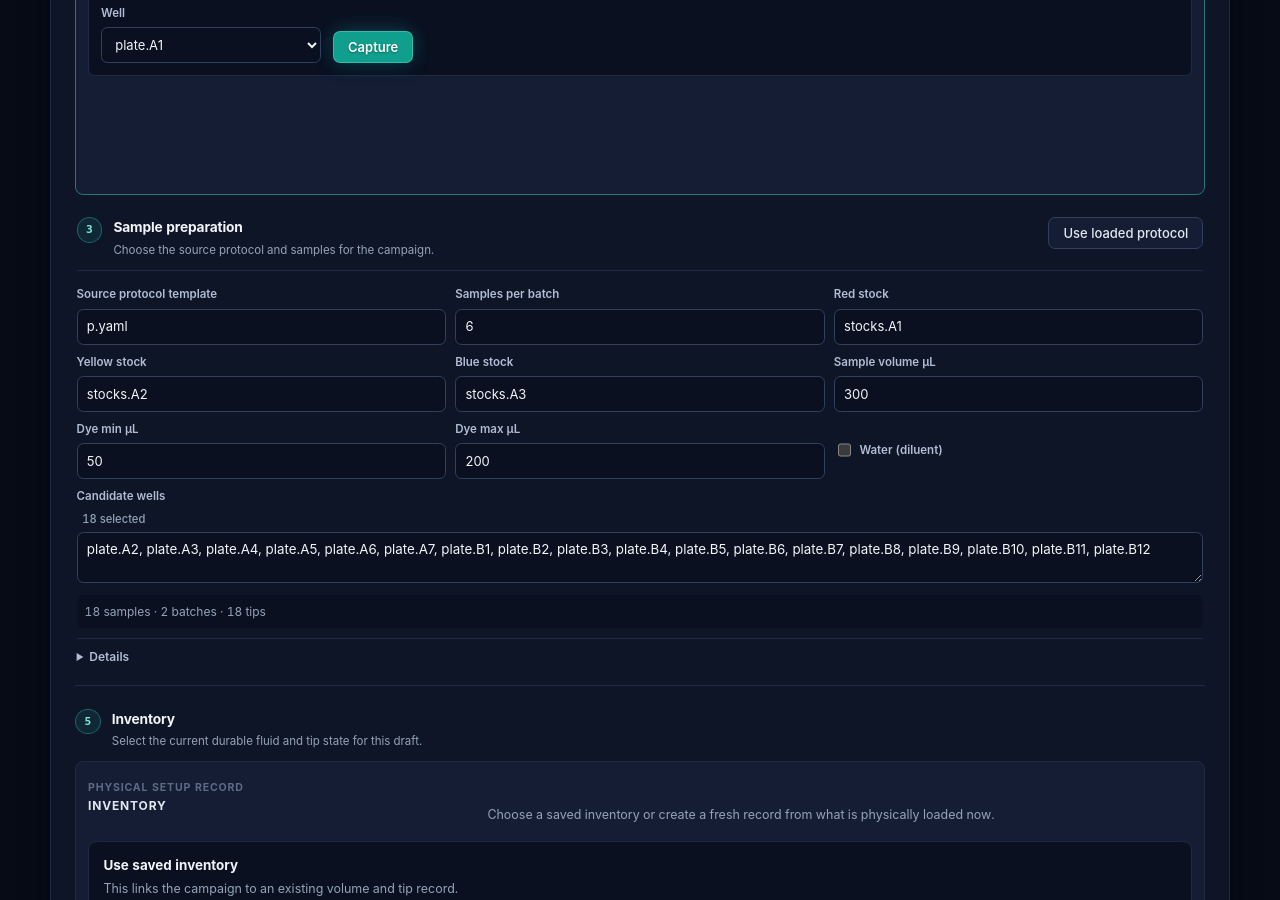
Scenario: reveals the water diluent fields only once enabled, with a stocks.A4 default
The width and height of the screenshot is (1280, 900).
(page scrolled)
Expected: the field labelled "Water source" is not shown
Click the checkbox labelled "Water (diluent)" at (844, 450), box x1=838 y1=432 x2=851 y2=468
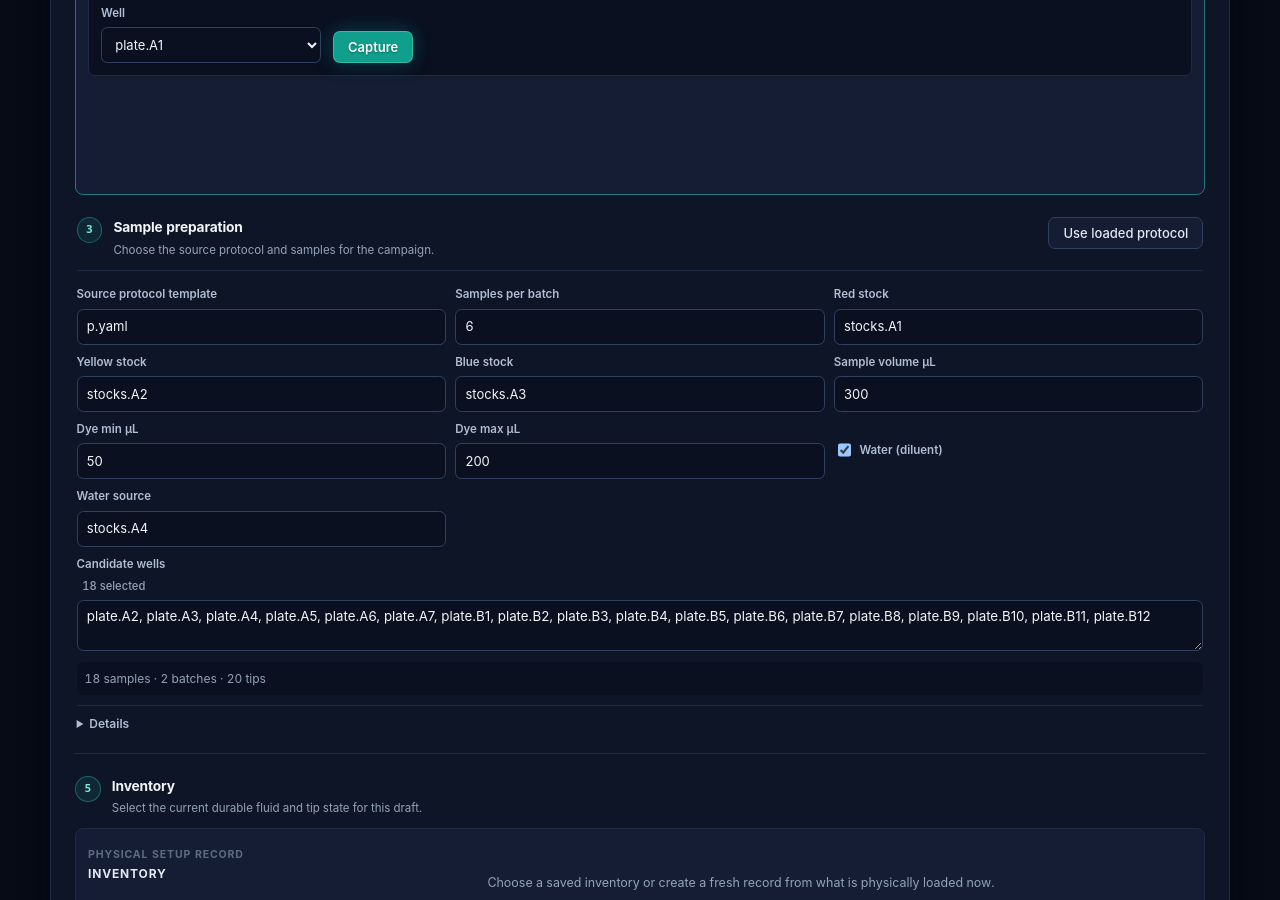
Expected: the number field named "Dye minimum microliters" holds "50", x1=77 y1=443 x2=446 y2=479
Expected: the field labelled "Water source" holds "stocks.A4"
Replace the text in the field labelled "Water source" with "stocks.B1" at (261, 529), box x1=77 y1=511 x2=446 y2=547
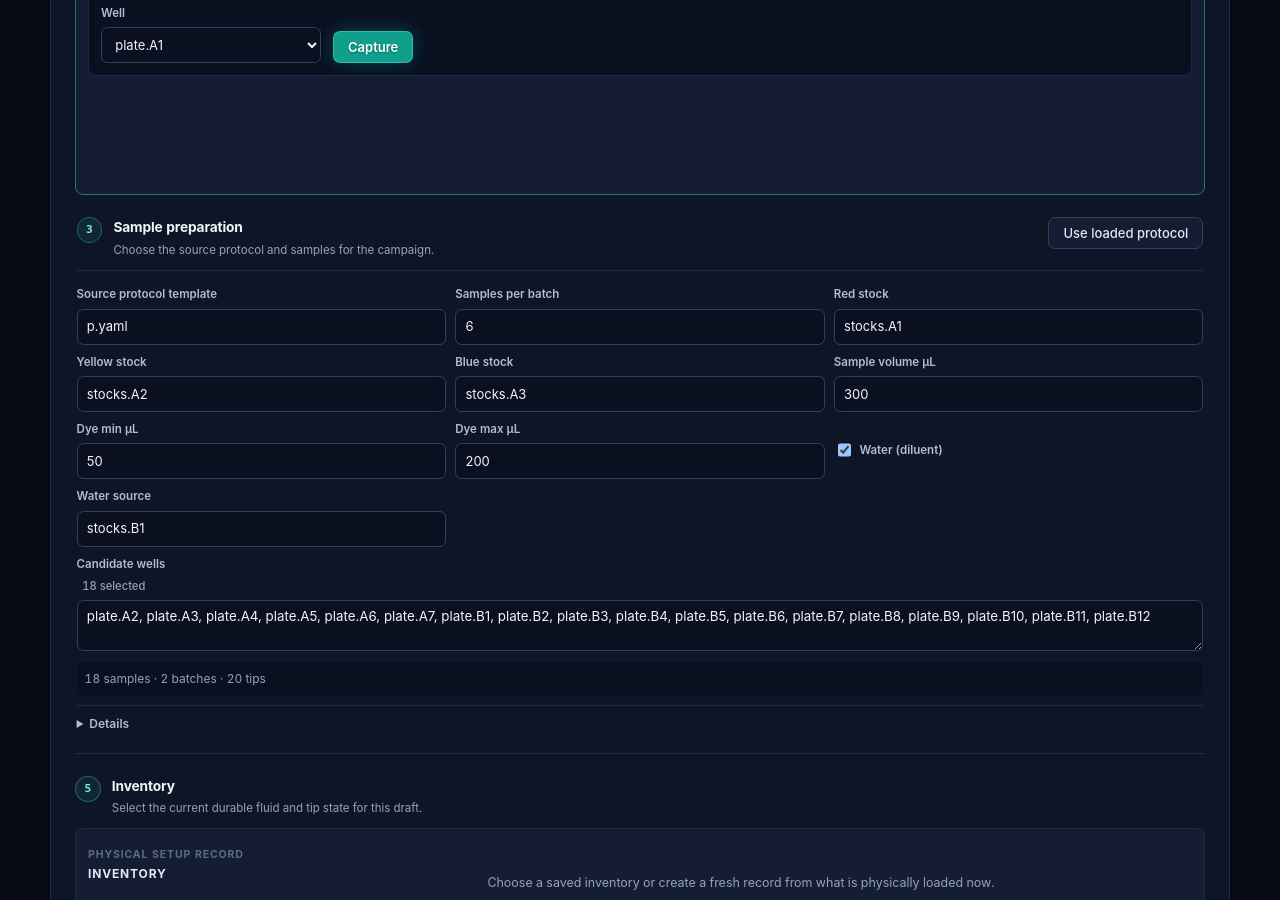
Click the checkbox labelled "Water (diluent)" at (844, 450), box x1=838 y1=432 x2=851 y2=468
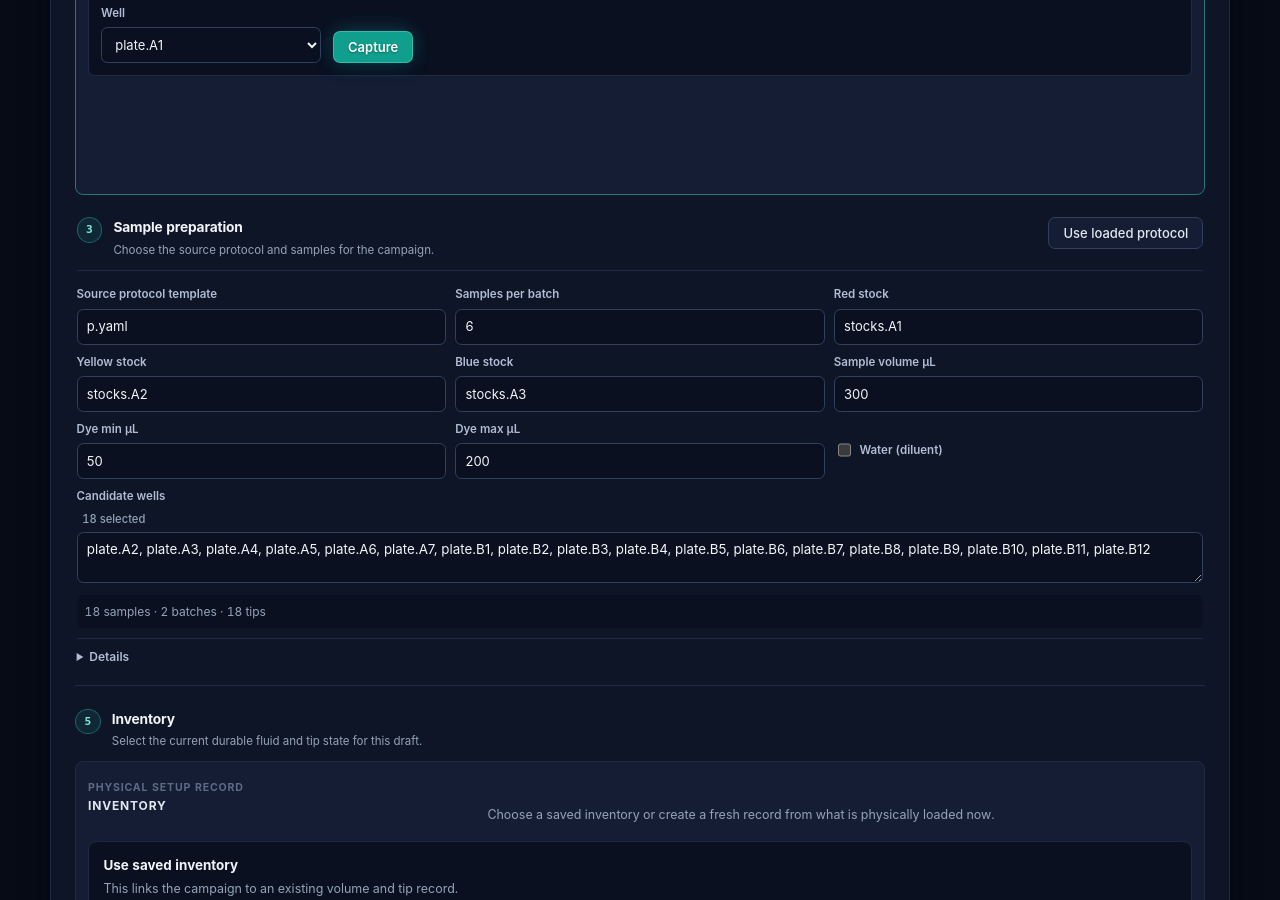
Expected: the label labelled "Water source" is gone
